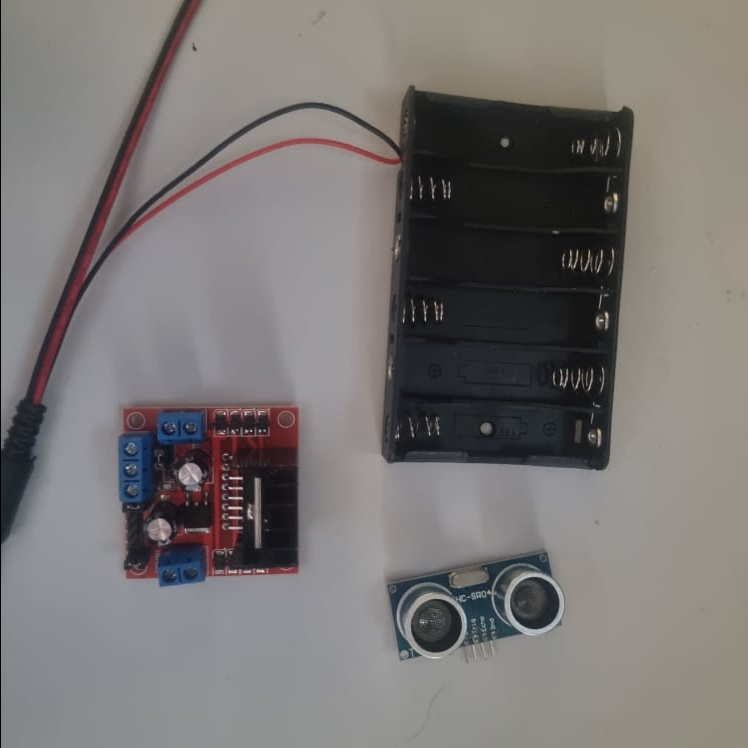BATTERY BOX: (382, 83, 637, 473)
MOTOR: (118, 404, 299, 587)
SENSOR: (384, 550, 569, 666)
